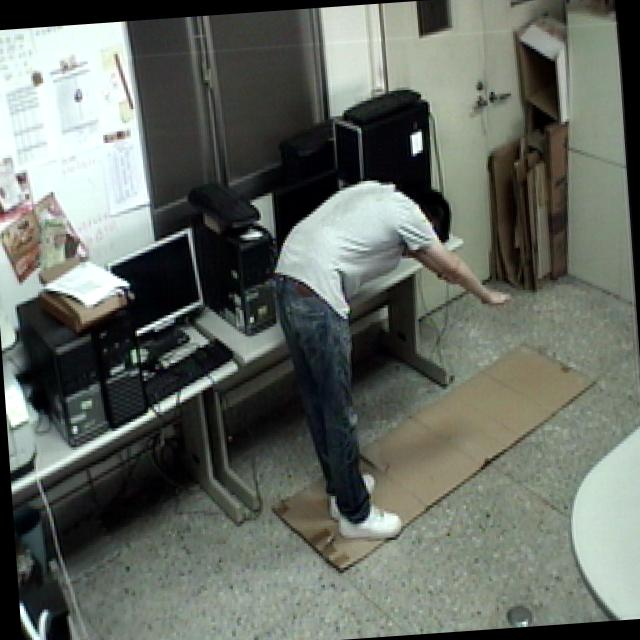bend: (257, 168, 532, 556)
